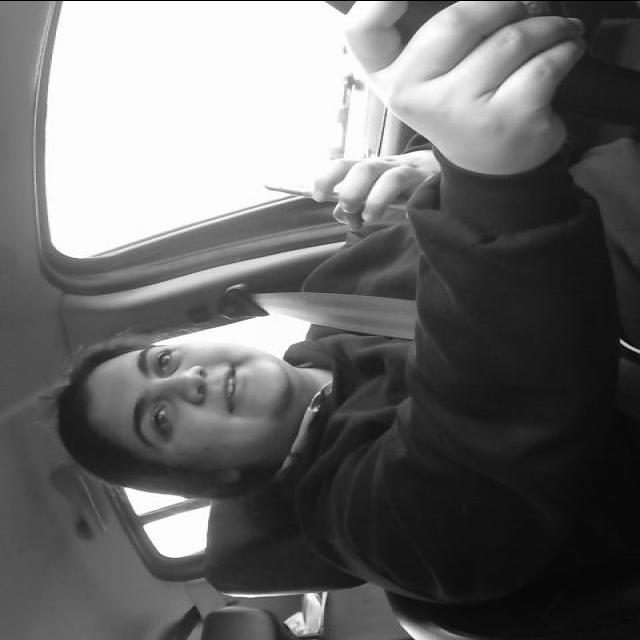mobile use: (264, 172, 404, 222)
